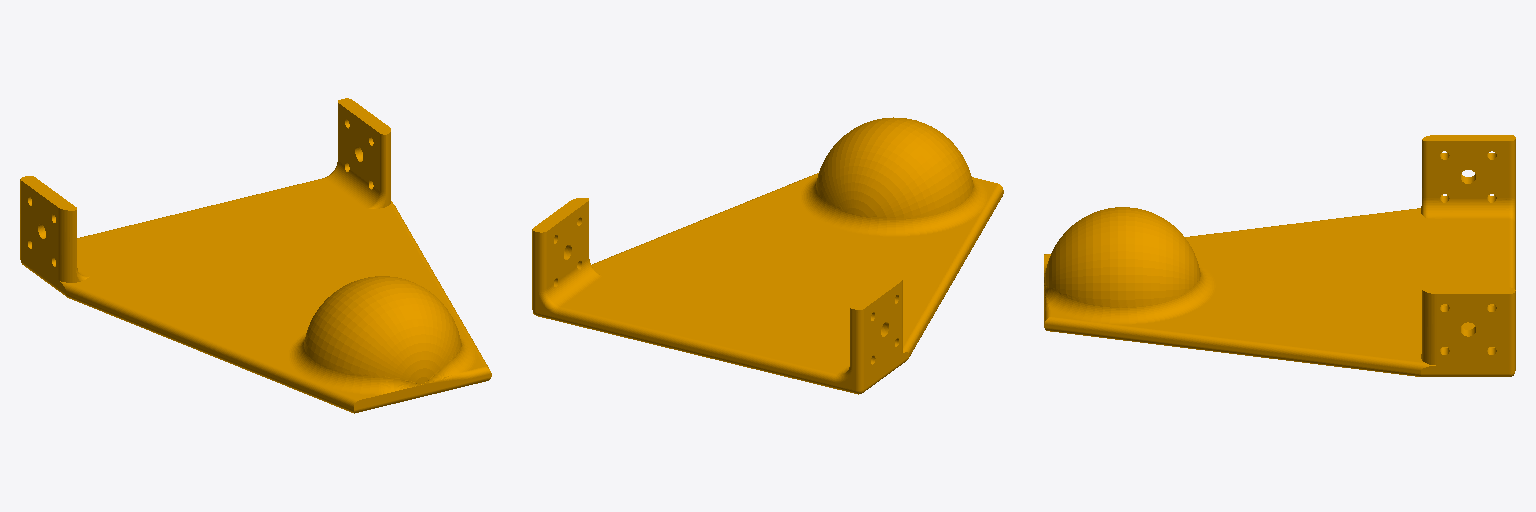
The robot description file, URDF, robot "mesh":
<?xml version="1.0"?>
<robot name="mesh">
	<link name="base_link">
		<visual>
			<geometry>
				<mesh filename="package://udm_urdf/mesh/3d.stl" />
			</geometry>
		</visual>
	</link>
</robot>
	

--- Facts derived from the render (not from the file) ---
3 views of the same robot in one strip: view 1: azimuth 30°, elevation 25°; view 2: azimuth 150°, elevation 25°; view 3: azimuth 270°, elevation 25° (orthographic).
Robot: mesh — 1 links, 0 joints (none); root link base_link; default pose: every joint at zero.
Links seen in each view (by area): view 1: base_link; view 2: base_link; view 3: base_link.
Boxes of the visible links, x1,y1,x2,y2 form: base_link: (20, 98, 491, 413); base_link: (532, 117, 1003, 394); base_link: (1044, 135, 1515, 376).
Size in the robot's own frame: 0.12 by 0.15 by 0.03 metres.
1 mesh visuals loaded from 1 distinct referenced files (1 binary STL).